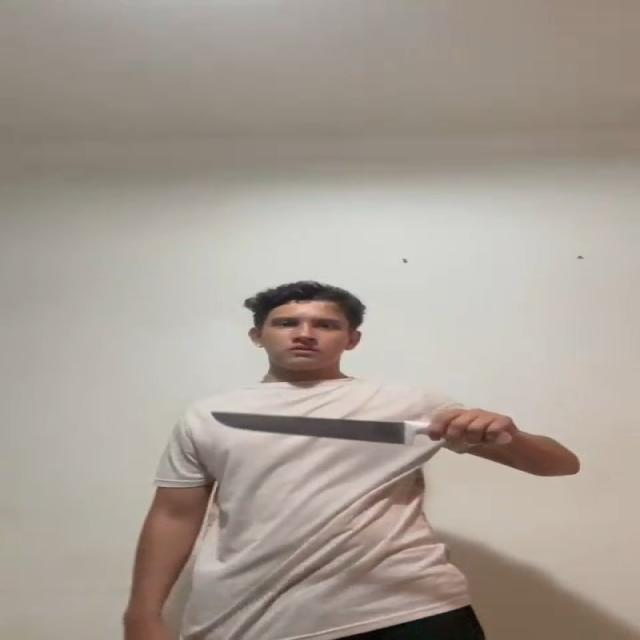knife: (211, 405, 405, 447)
